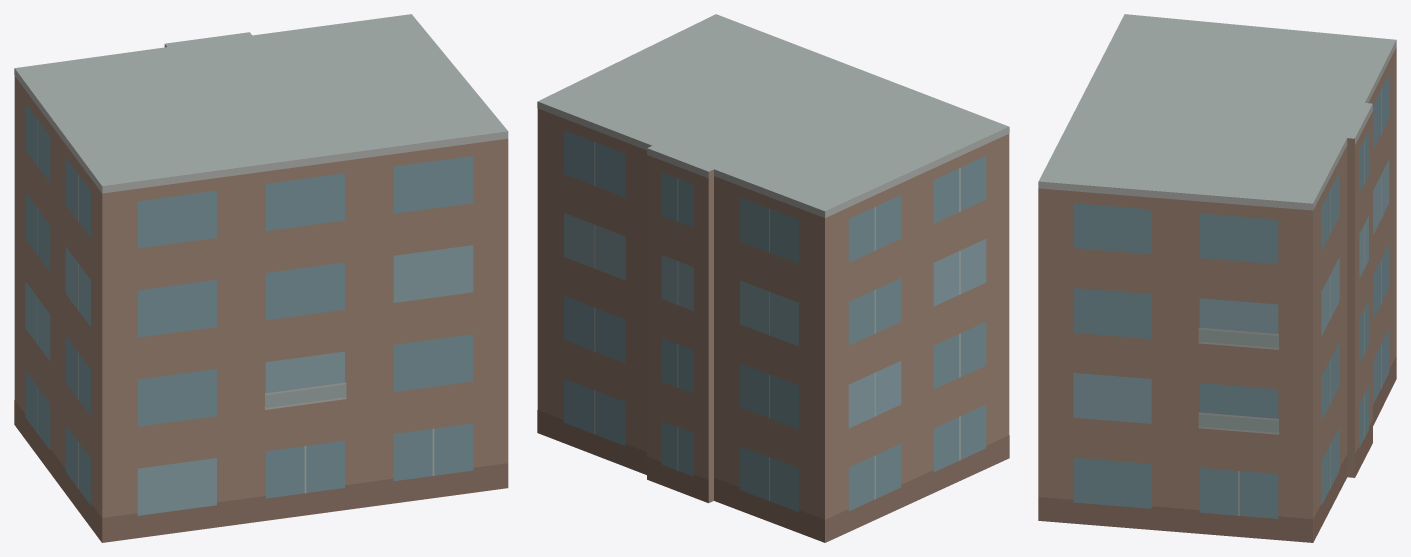
The model's file is survey-upis-32753345.glb.
3 views of the same model, side by side, from view 1: azimuth 30°, elevation 25°; view 2: azimuth 150°, elevation 25°; view 3: azimuth 270°, elevation 25° (orthographic). The views are drawn at different scales.
Parts seen in each view (by area): view 1: survey-upis-32753345.tmp; view 2: survey-upis-32753345.tmp; view 3: survey-upis-32753345.tmp.
Boxes of the visible parts, x1,y1,x2,y2 form: survey-upis-32753345.tmp: [14, 14, 508, 542]; survey-upis-32753345.tmp: [537, 14, 1009, 542]; survey-upis-32753345.tmp: [1038, 14, 1396, 542].
Size of the model in its own units: 14.4 by 12 by 11.49.
